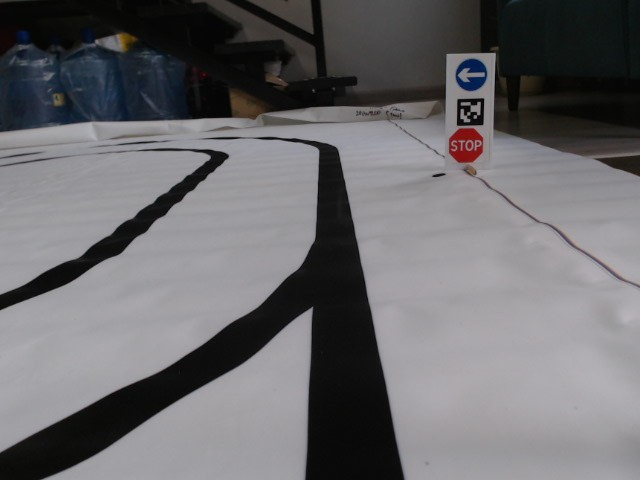Stop: (449, 127, 483, 162)
